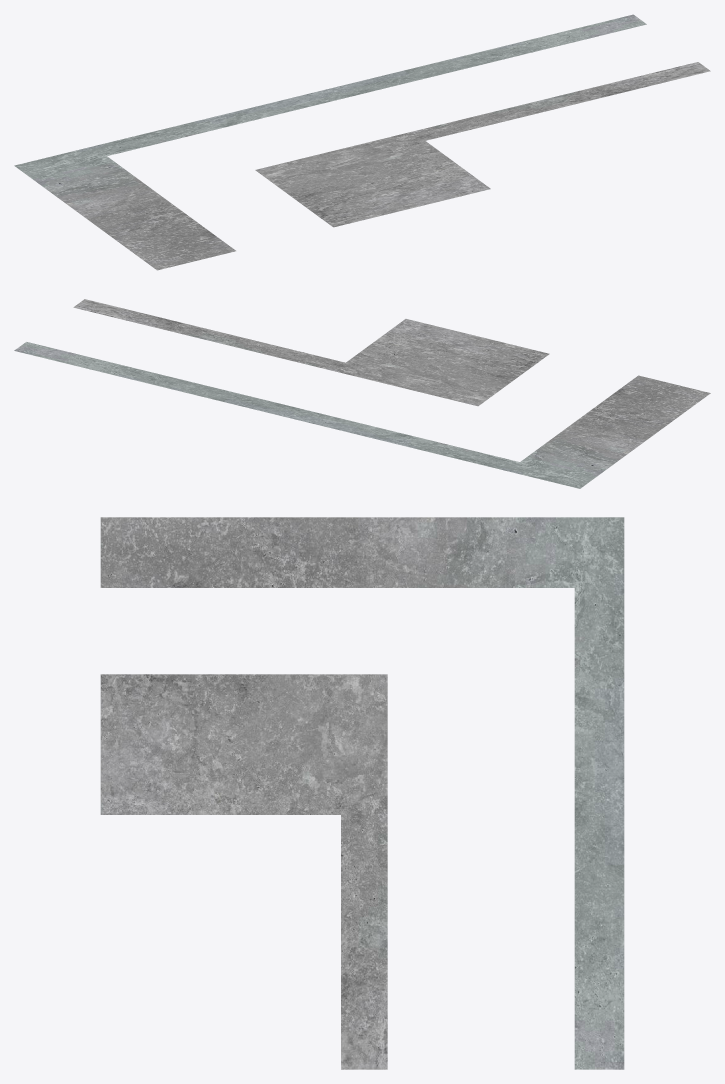
Rendered from Iarba.obj.
3 views of the same model, one above another, from view 1: azimuth 30°, elevation 25°; view 2: azimuth 150°, elevation 25°; view 3: azimuth 270°, elevation 25° (orthographic). The views are drawn at different scales.
Visible parts, largest first — view 1: Iarba_Plane.017; view 2: Iarba_Plane.017; view 3: Iarba_Plane.017.
Part boxes in pixels (x1,y1,x2,y2): Iarba_Plane.017: [14, 14, 710, 270]; Iarba_Plane.017: [14, 299, 710, 488]; Iarba_Plane.017: [100, 517, 624, 1069].
Bounding box in the file's own units: 434 × 5.6e-05 × 174.
